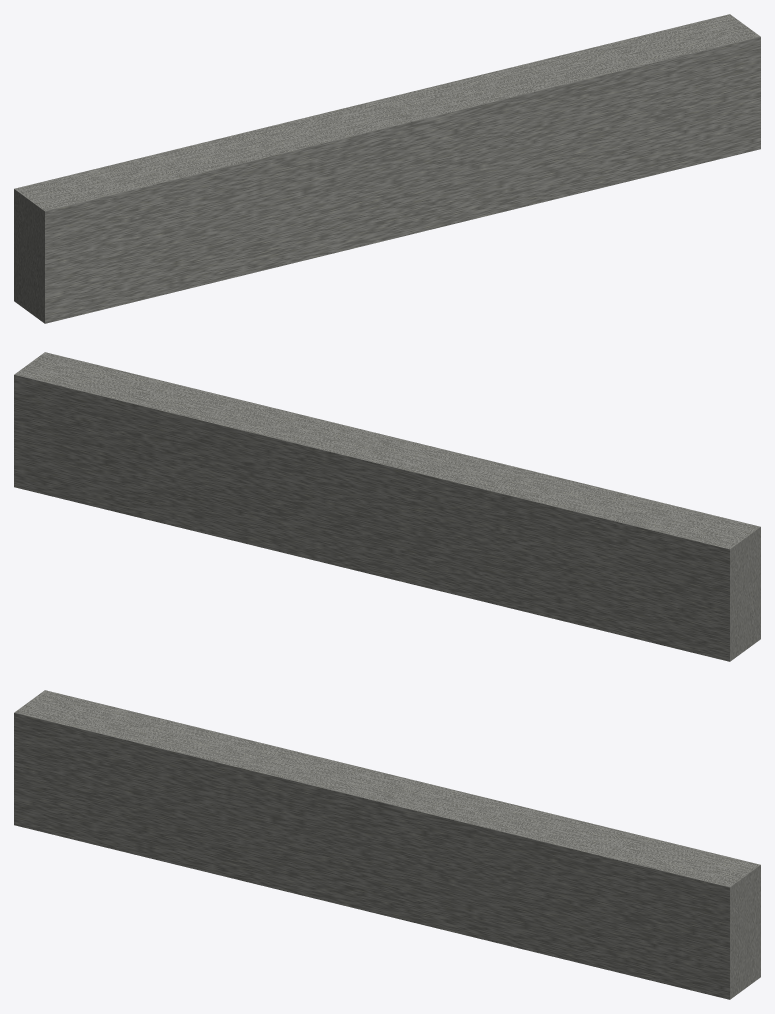
3 views of the same model, one above another, from view 1: azimuth 30°, elevation 25°; view 2: azimuth 150°, elevation 25°; view 3: azimuth 330°, elevation 25° (orthographic).
Visible parts, largest first — view 1: win_bunker_slit_lod0_run001; view 2: win_bunker_slit_lod0_run001; view 3: win_bunker_slit_lod0_run001.
Part boxes in pixels (box(x1,y1,x2,y2)): win_bunker_slit_lod0_run001: box(14, 14, 760, 323); win_bunker_slit_lod0_run001: box(14, 352, 760, 661); win_bunker_slit_lod0_run001: box(14, 690, 760, 999).
Size of the model in its own units: 4 by 0.6 by 0.3.
1 material, 1 textured.
